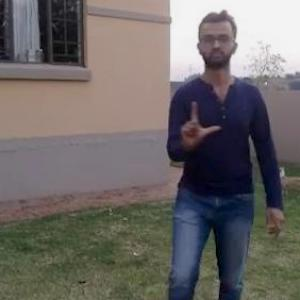land_hand: (176, 94, 224, 151)
